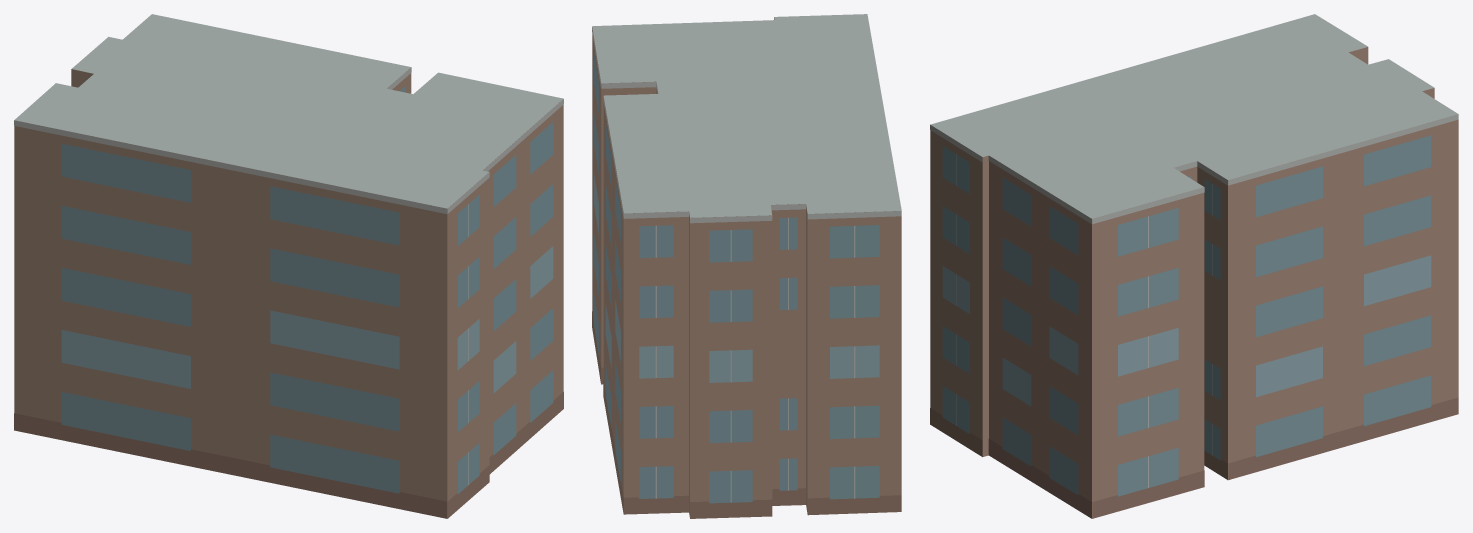
The model's file is survey-upis-33019677.glb.
3 views of the same model, side by side, from view 1: azimuth 30°, elevation 25°; view 2: azimuth 150°, elevation 25°; view 3: azimuth 270°, elevation 25° (orthographic). The views are drawn at different scales.
Visible parts, largest first — view 1: survey-upis-33019677.tmp; view 2: survey-upis-33019677.tmp; view 3: survey-upis-33019677.tmp.
Boxes of the visible parts, box(x1,y1,x2,y2) form: survey-upis-33019677.tmp: box(14, 14, 563, 518); survey-upis-33019677.tmp: box(592, 14, 901, 518); survey-upis-33019677.tmp: box(930, 14, 1458, 518).
Bounding box in the file's own units: 19.79 × 13.5 × 21.57.
